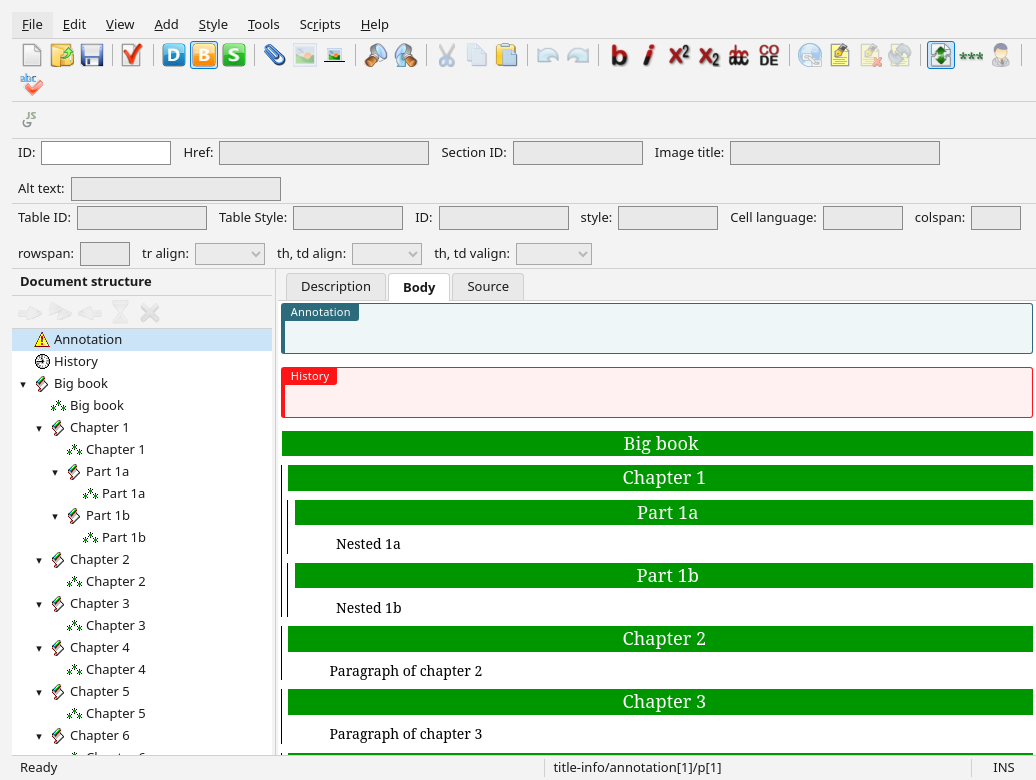
Test: Document Tree panel › shows the IDR_DOCUMENT_TREE context menu with enable states
Right-click the list item with test id "tree-row-s1" at [81, 427], box [32, 418, 130, 437]
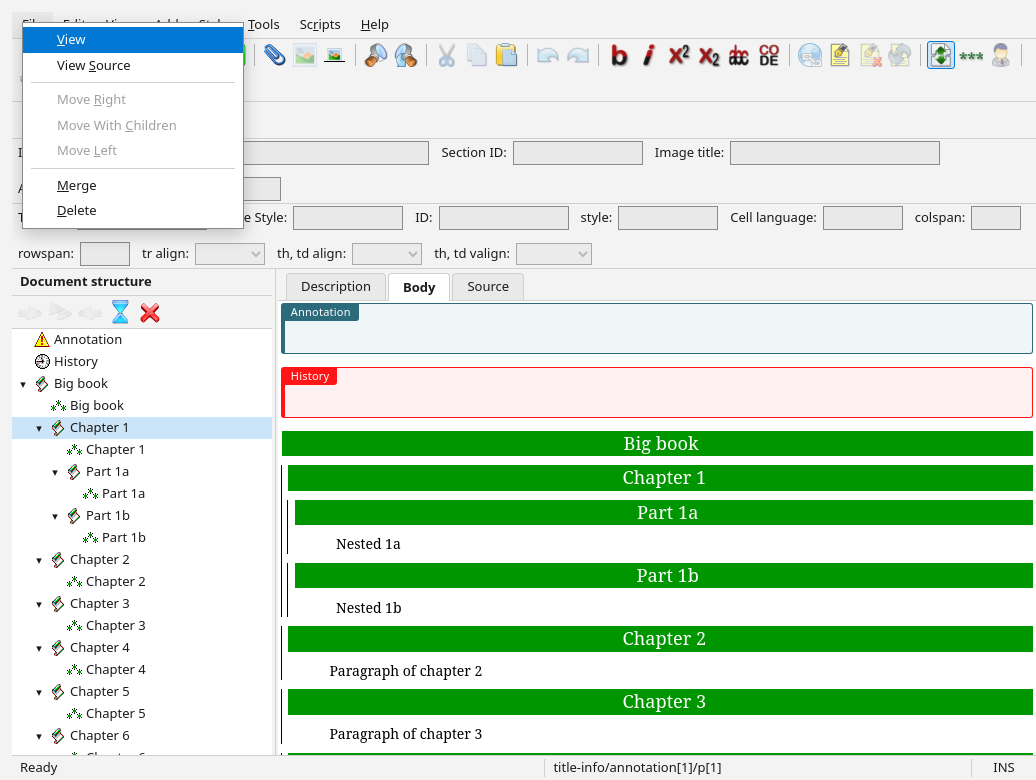
Result: the menu item with test id "tree-menu-view" reads "View" at [23, 27, 243, 52]
Result: the menu item with test id "tree-menu-viewSource" reads "View Source" at [57, 56, 131, 74]
Press Escape
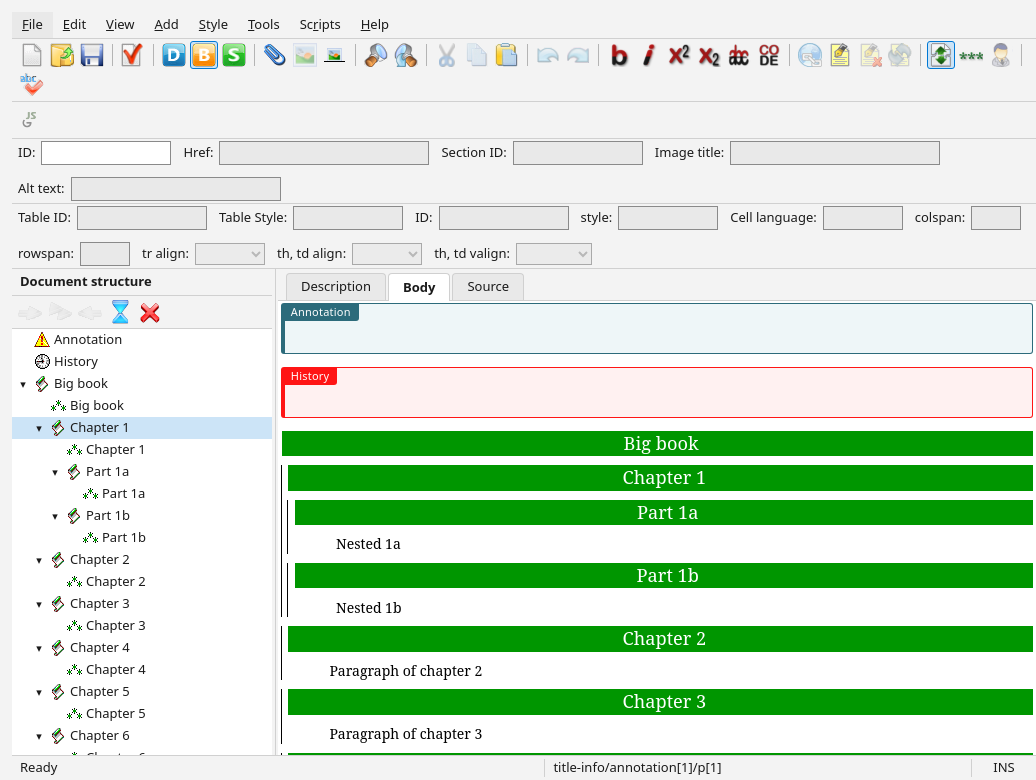
Result: the menu with test id "tree-menu" is gone
